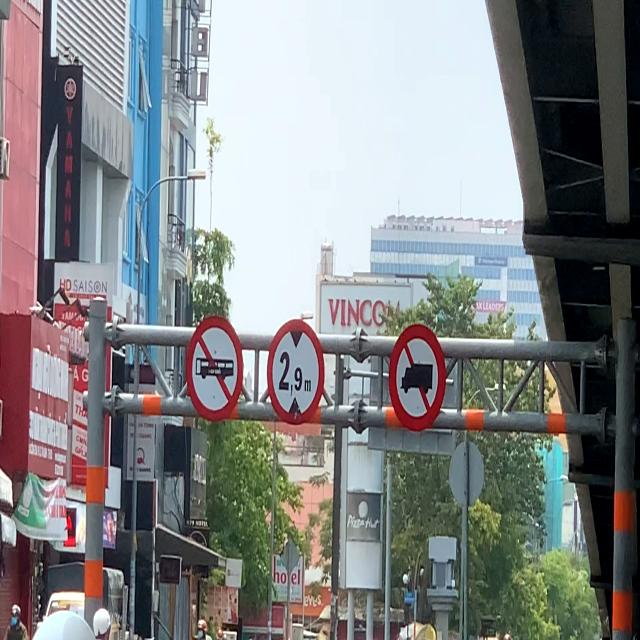P.106a: (388, 323, 447, 433)
P.117: (266, 319, 324, 426)
